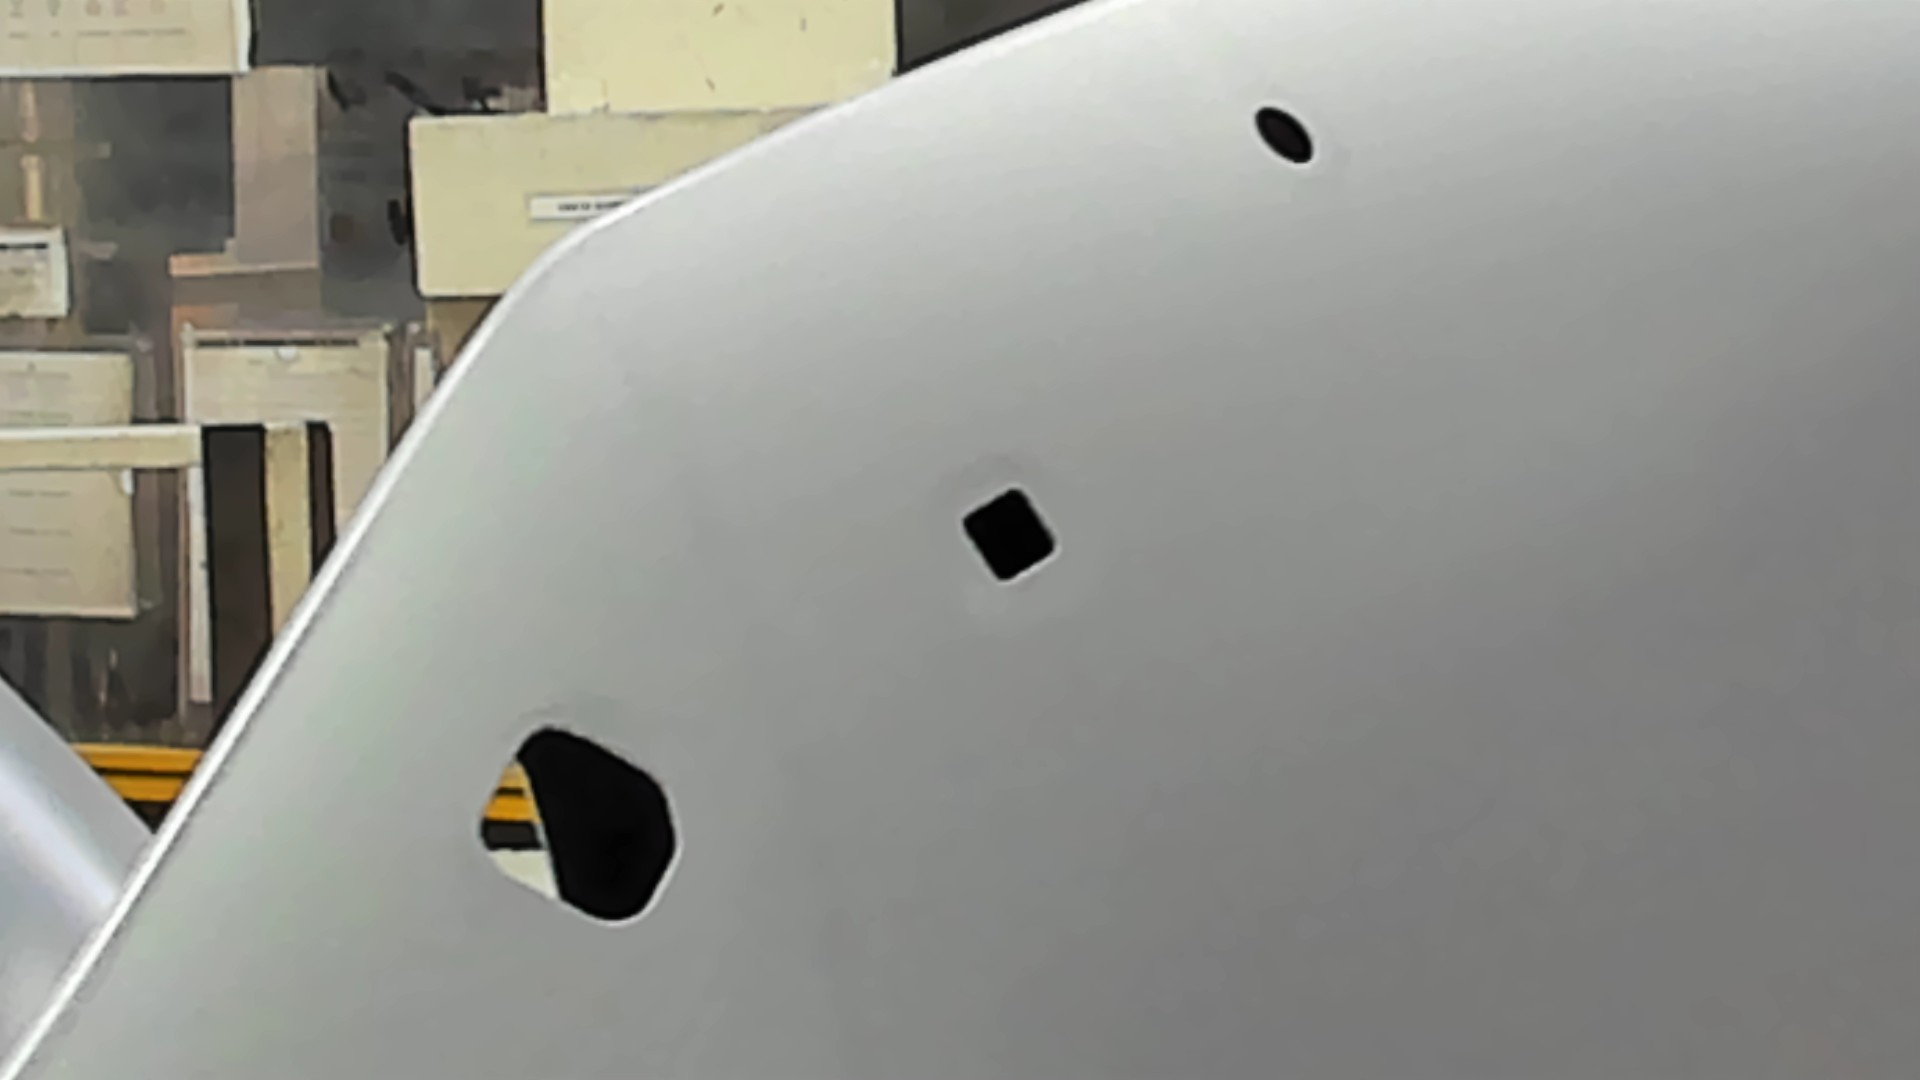capo: (1067, 173, 1920, 1080)
chico: (1247, 100, 1321, 170)
grande: (475, 719, 688, 932)
mediano: (952, 481, 1065, 591)
